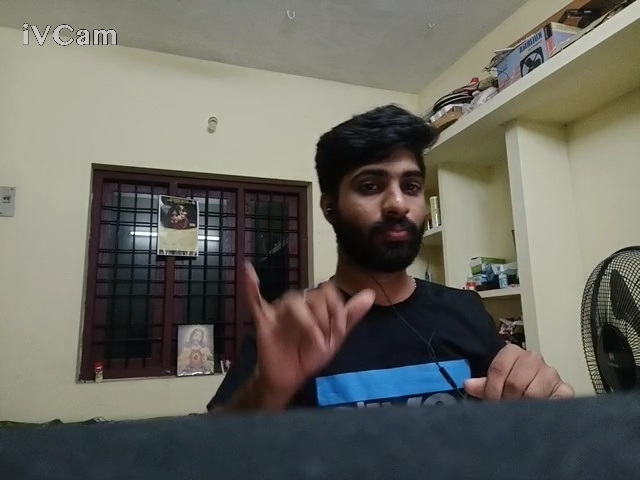I Love You: (225, 249, 382, 406)
